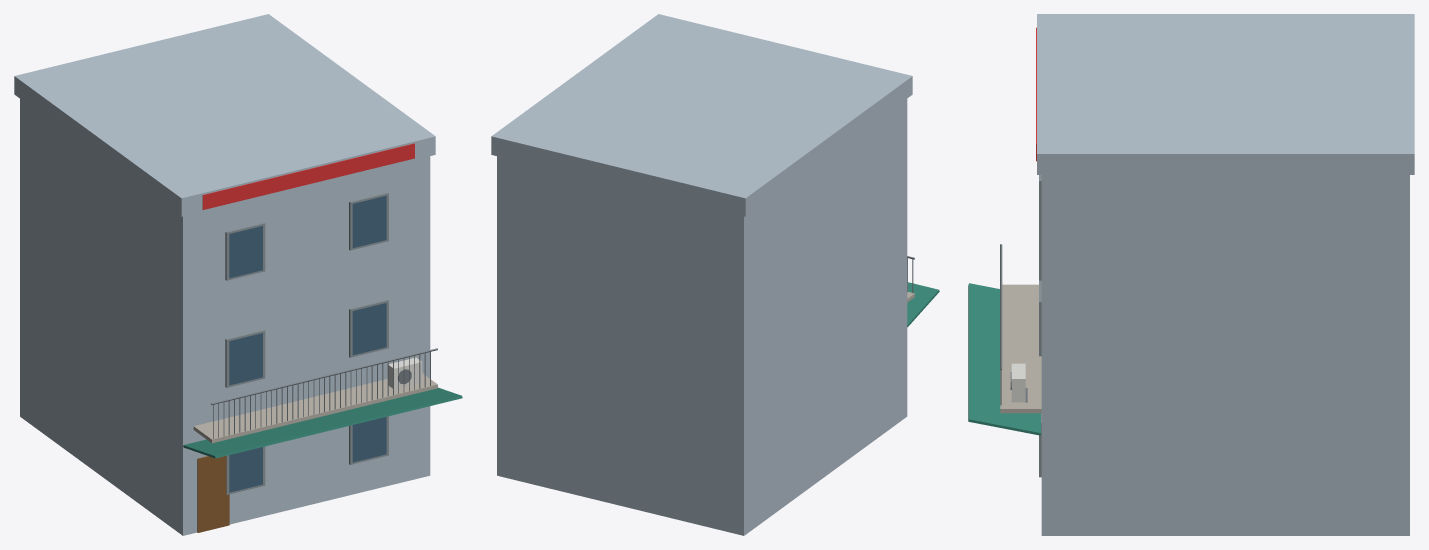
The model's file is House_C.fbx.
3 renders of one model, left to right at view 1: azimuth 30°, elevation 25°; view 2: azimuth 150°, elevation 25°; view 3: azimuth 270°, elevation 25°, orthographic. The views are drawn at different scales.
Visible parts, largest first — view 1: House_C; view 2: House_C; view 3: House_C.
Boxes of the visible parts, x1=… form: House_C: x1=14, y1=14, x2=462, y2=535; House_C: x1=491, y1=14, x2=939, y2=535; House_C: x1=968, y1=14, x2=1414, y2=535.
Size of the model in its own units: 7.2 by 9.2 by 9.69.
